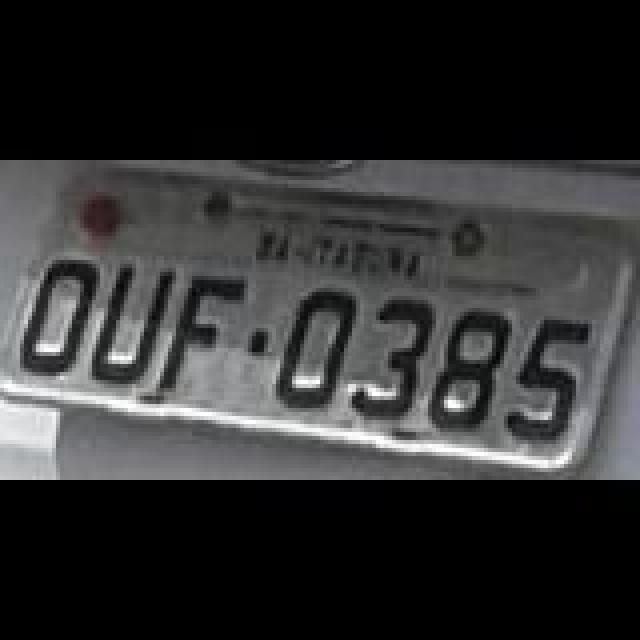3: (350, 294, 434, 426)
5: (500, 310, 596, 442)
8: (418, 304, 510, 432)
F: (154, 274, 246, 398)
O: (14, 246, 98, 378), (274, 284, 350, 412)
U: (92, 256, 180, 392)
